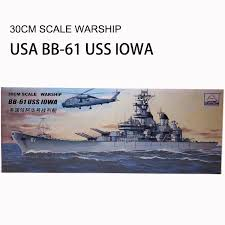tau_muctieu: (11, 109, 218, 154)
